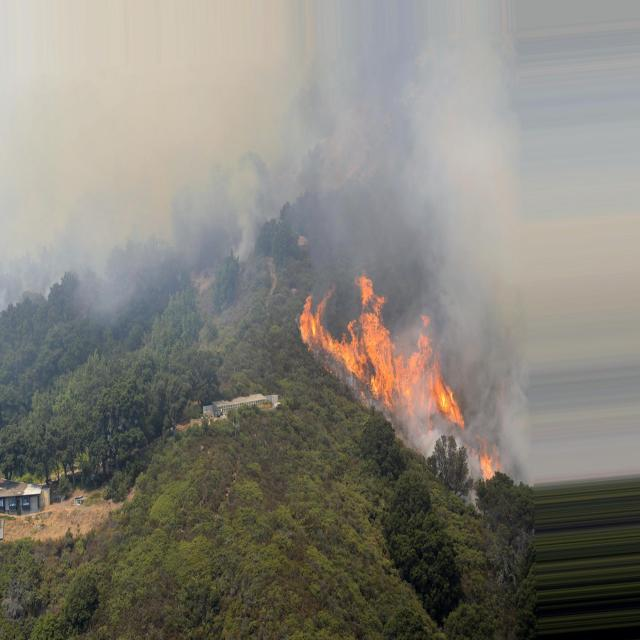fire: (297, 286, 457, 432)
smoke: (0, 0, 284, 265), (312, 12, 521, 266)
